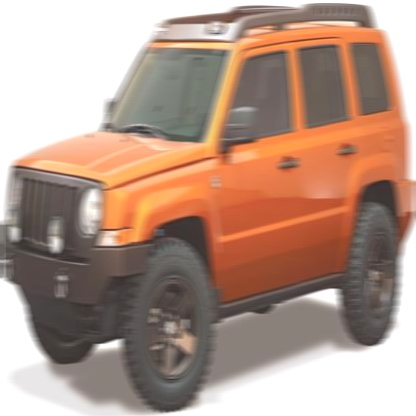Vehicle: (0, 1, 416, 415)
